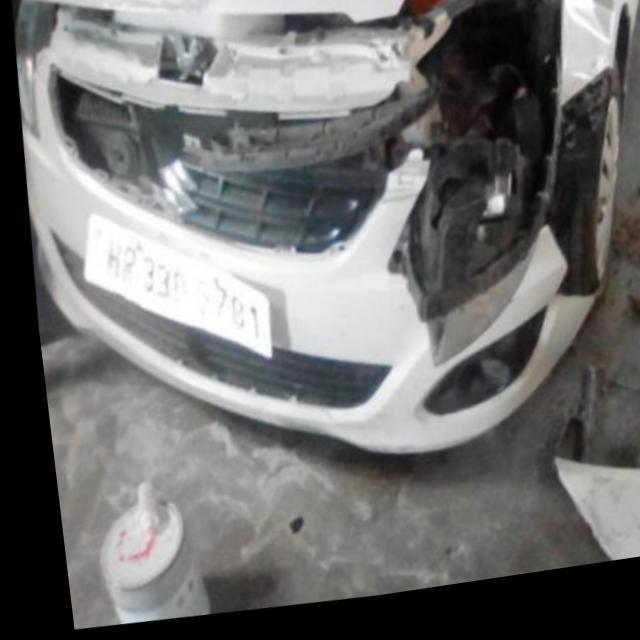dent: (556, 0, 616, 104), (41, 0, 242, 15)
dislocated part: (36, 40, 418, 271)
no part: (379, 33, 563, 381)
